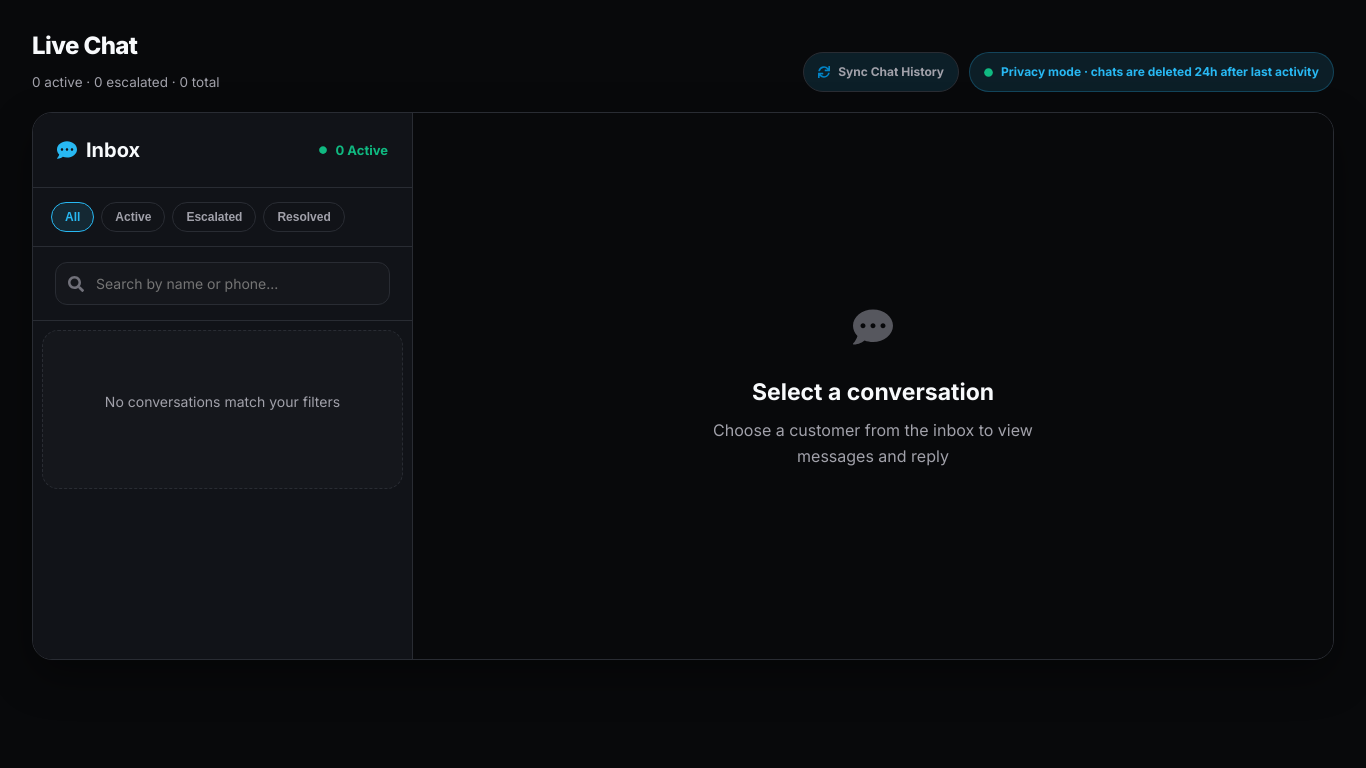
Scenario: allows triggering WhatsApp Business App chat history sync from Live Chat
Click the button "Sync Chat History" at (881, 72), box x1=803 y1=52 x2=959 y2=92
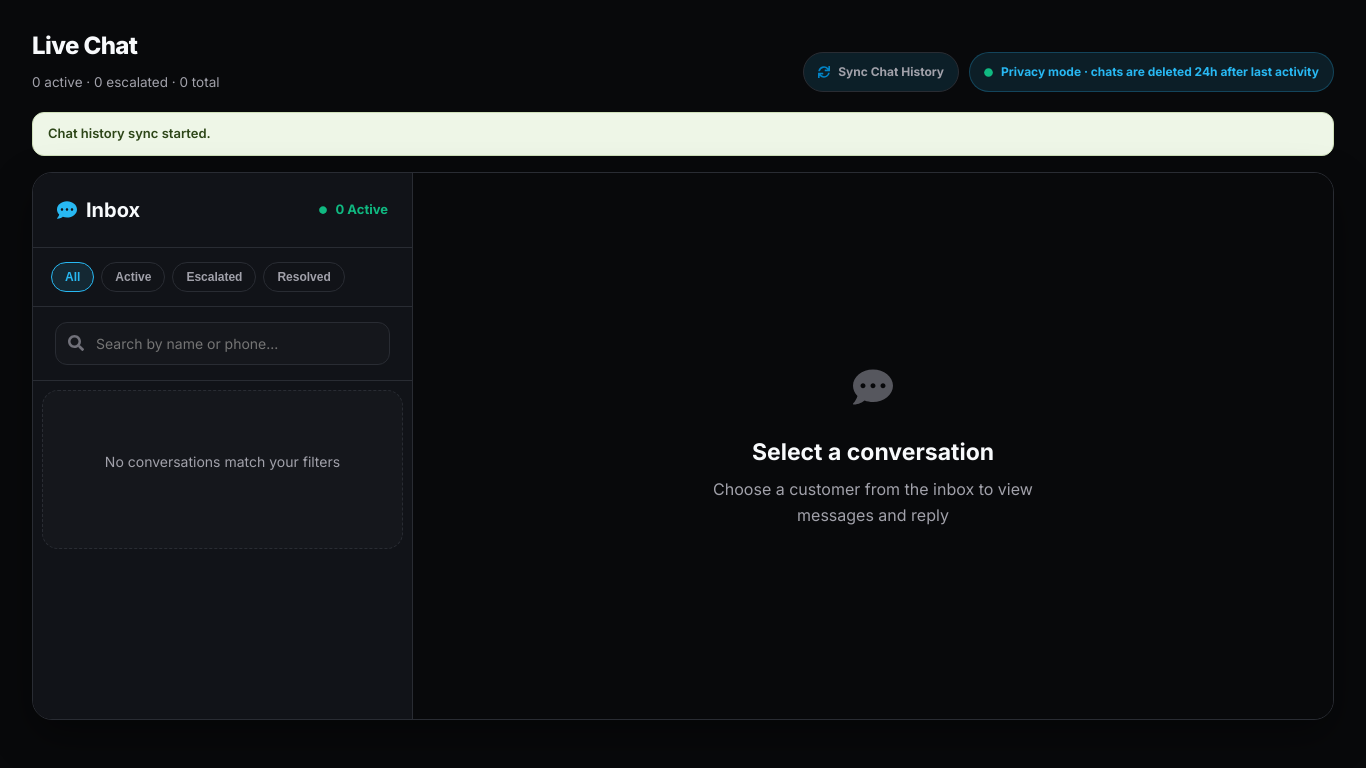
Check: the text "Chat history sync started." is shown, box x1=32 y1=112 x2=1334 y2=156
